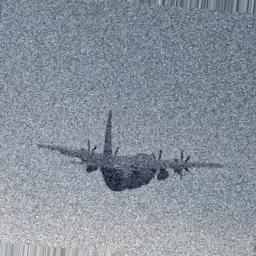Airplane: (37, 109, 224, 193)
